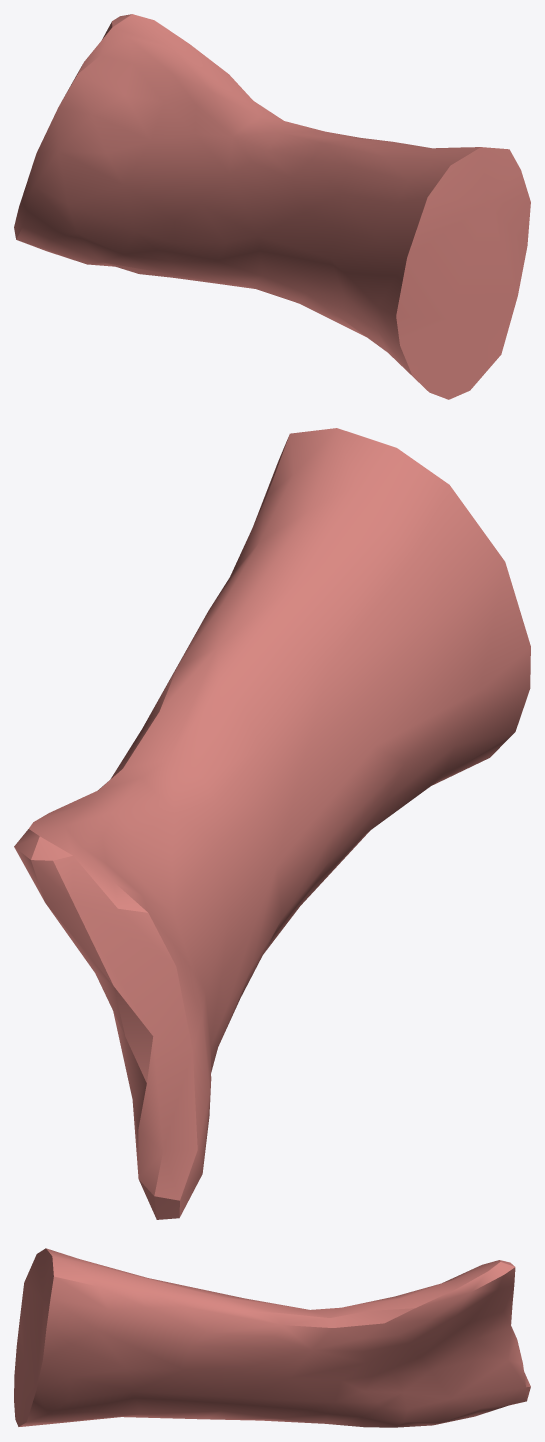
The model's file is fma54130-n_mm2208.glb.
The picture shows the model from 3 angles, top to bottom: view 1: azimuth 30°, elevation 25°; view 2: azimuth 150°, elevation 25°; view 3: azimuth 270°, elevation 25°; orthographic projection. The views are drawn at different scales.
Parts seen in each view (by area): view 1: FMA54130-N_MM2208; view 2: FMA54130-N_MM2208; view 3: FMA54130-N_MM2208.
Boxes of the visible parts, left/top/right/bottom form: FMA54130-N_MM2208: left=14, top=14, right=530, bottom=399; FMA54130-N_MM2208: left=14, top=428, right=530, bottom=1219; FMA54130-N_MM2208: left=14, top=1248, right=530, bottom=1427.
Size of the model in its own units: 0.00339 by 0.00367 by 0.00786.
